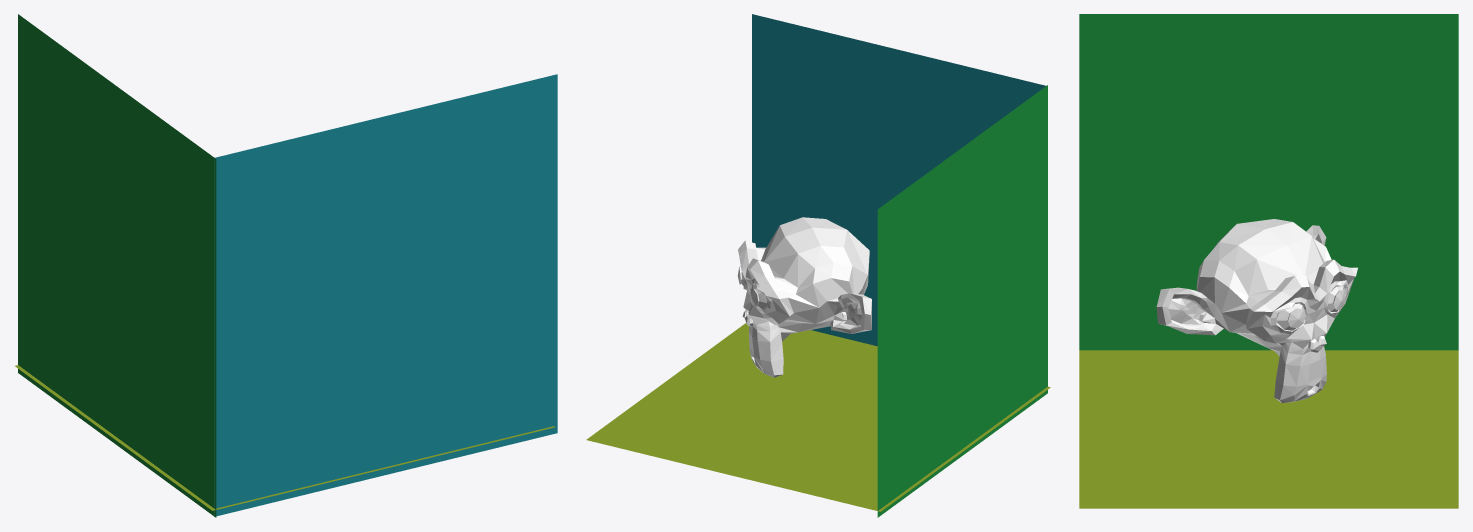
Rendered from monkey.obj.
The picture shows the model from 3 angles, left to right: view 1: azimuth 30°, elevation 25°; view 2: azimuth 150°, elevation 25°; view 3: azimuth 270°, elevation 25°; orthographic projection. The views are drawn at different scales.
Visible parts, largest first — view 1: Plane.002, Plane.001, Plane; view 2: Plane.001, Plane.002, Plane, Suzanne; view 3: Plane.001, Plane, Suzanne.
Part boxes in pixels (box(x1,y1,x2,y2)): Plane.002: box(214, 74, 557, 516); Plane.001: box(18, 14, 216, 517); Plane: box(15, 365, 555, 510); Plane.001: box(877, 85, 1047, 517); Plane.002: box(752, 14, 1045, 346); Plane: box(586, 323, 1050, 511); Suzanne: box(737, 217, 871, 377); Plane.001: box(1079, 14, 1458, 350); Plane: box(1079, 350, 1458, 508); Suzanne: box(1156, 219, 1357, 403).
Bounding box in the file's own units: 4.46 × 4.42 × 4.42.
